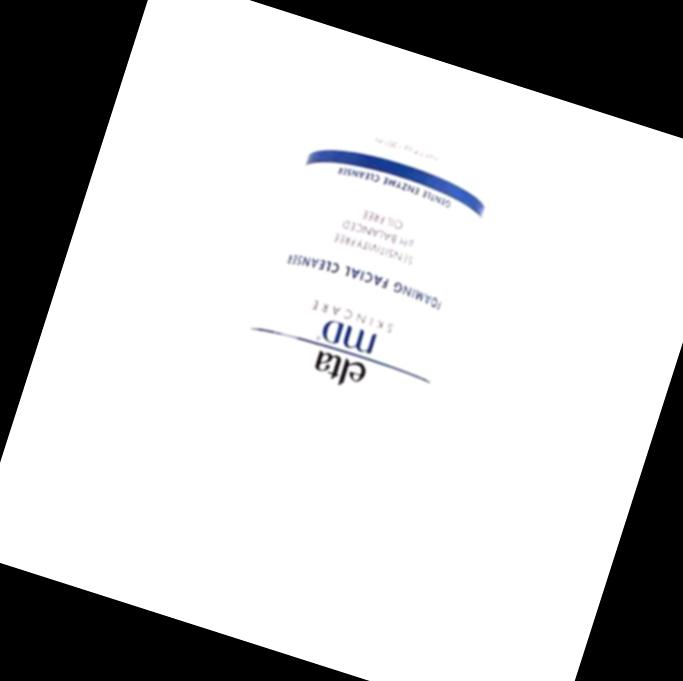cosmetic: (173, 79, 503, 619)
